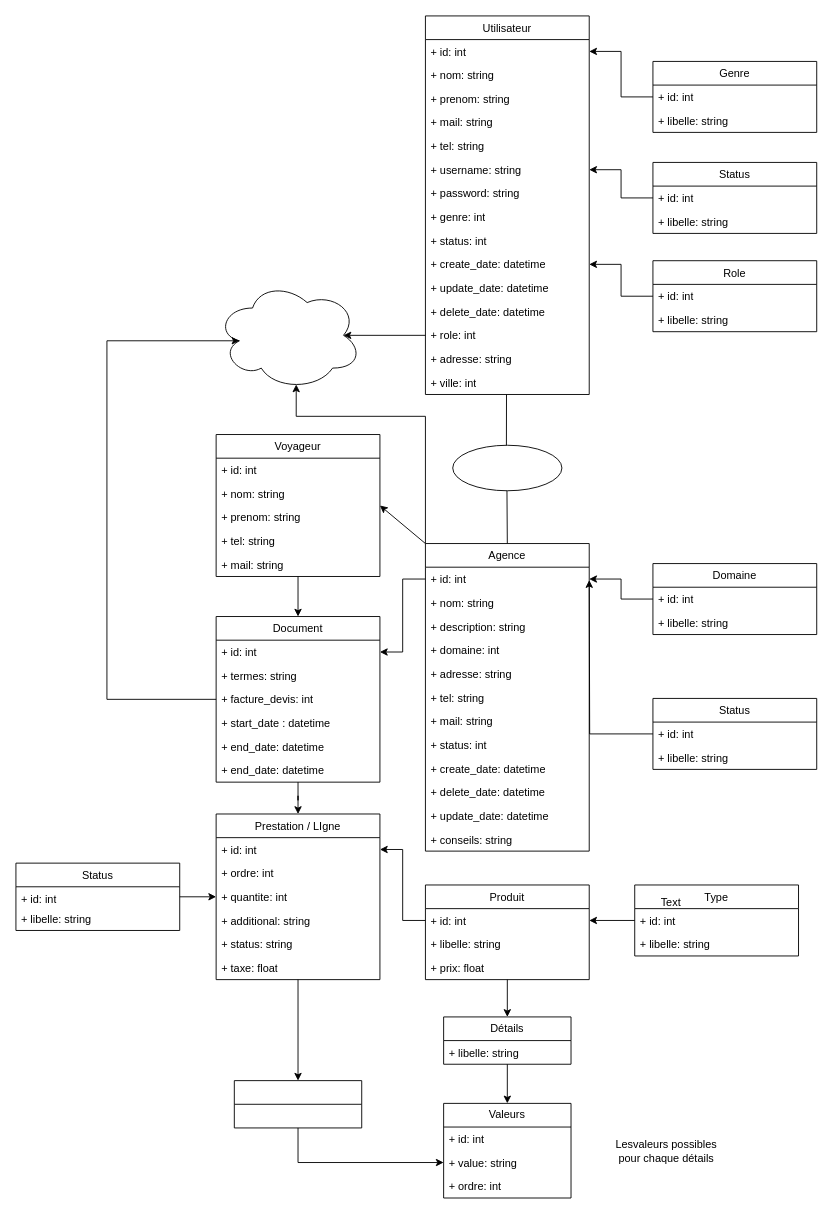
This 833x1217 diagram has some shape labels left out. The centre of each missing label's shape, as x and y in pixels:
"API du gouvernement geo.api.gouv.fr" belongs at point 288,335.
"Appartenir" belongs at point 507,467.
"Reponses" belongs at point 297,1104.
